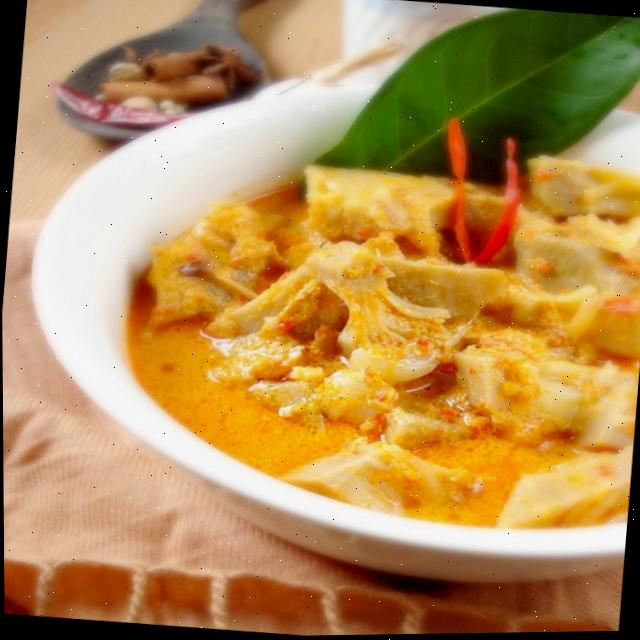熟制海鲜: (14, 0, 640, 600)
